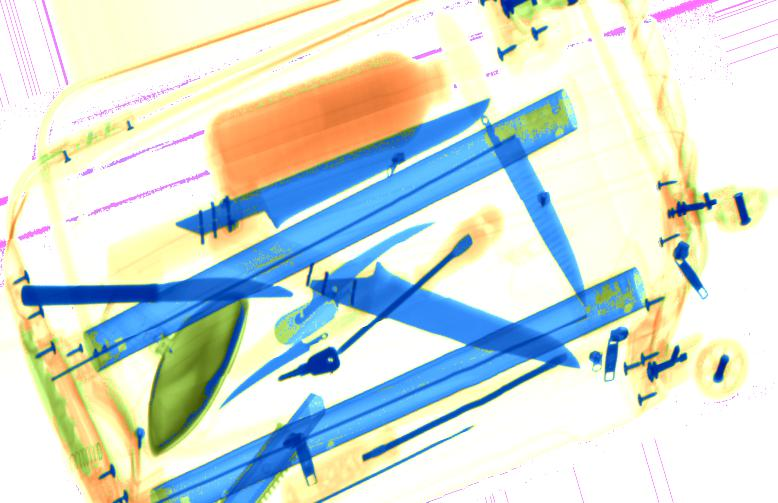KnifeCustom: (174, 97, 493, 243), (299, 260, 582, 369), (478, 115, 589, 309), (294, 220, 437, 326), (215, 325, 337, 411), (20, 275, 294, 307), (275, 298, 338, 346)
